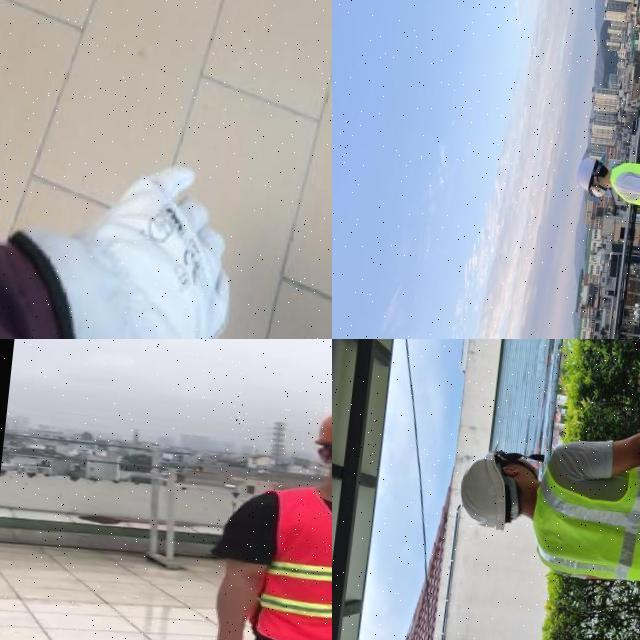helmet: (452, 443, 514, 535), (304, 396, 332, 457), (573, 154, 599, 193)
vest: (528, 444, 640, 593), (252, 483, 332, 640), (605, 157, 640, 220)
